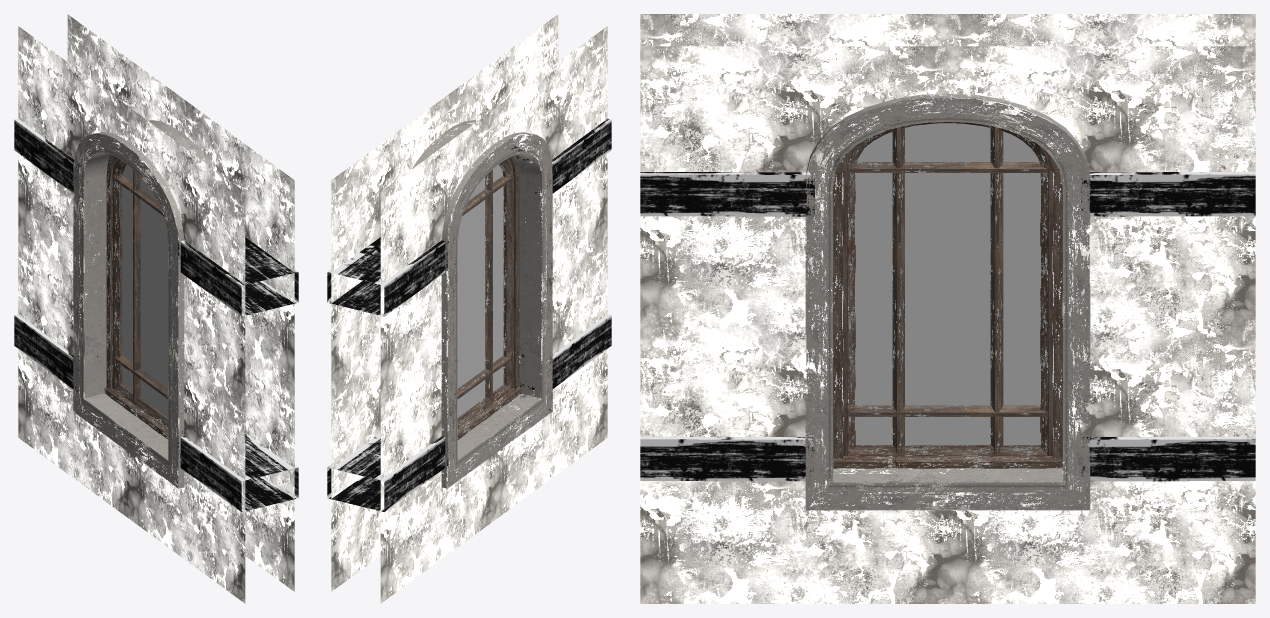
The model's file is SM_wall_A_window_4x4_03_03.fbx.
The picture shows the model from 3 angles, left to right: view 1: azimuth 30°, elevation 25°; view 2: azimuth 150°, elevation 25°; view 3: azimuth 270°, elevation 25°; orthographic projection. The views are drawn at different scales.
Visible parts, largest first — view 1: SM_wall_A_window_4x4_03_03_LOD0; view 2: SM_wall_A_window_4x4_03_03_LOD0; view 3: SM_wall_A_window_4x4_03_03_LOD0.
Boxes of the visible parts, left/top/right/bottom form: SM_wall_A_window_4x4_03_03_LOD0: left=14, top=14, right=298, bottom=603; SM_wall_A_window_4x4_03_03_LOD0: left=327, top=14, right=611, bottom=603; SM_wall_A_window_4x4_03_03_LOD0: left=640, top=14, right=1255, bottom=603.
Size of the model in its own units: 62.17 by 400 by 400.
Materials: 6 (5 with a texture image).
